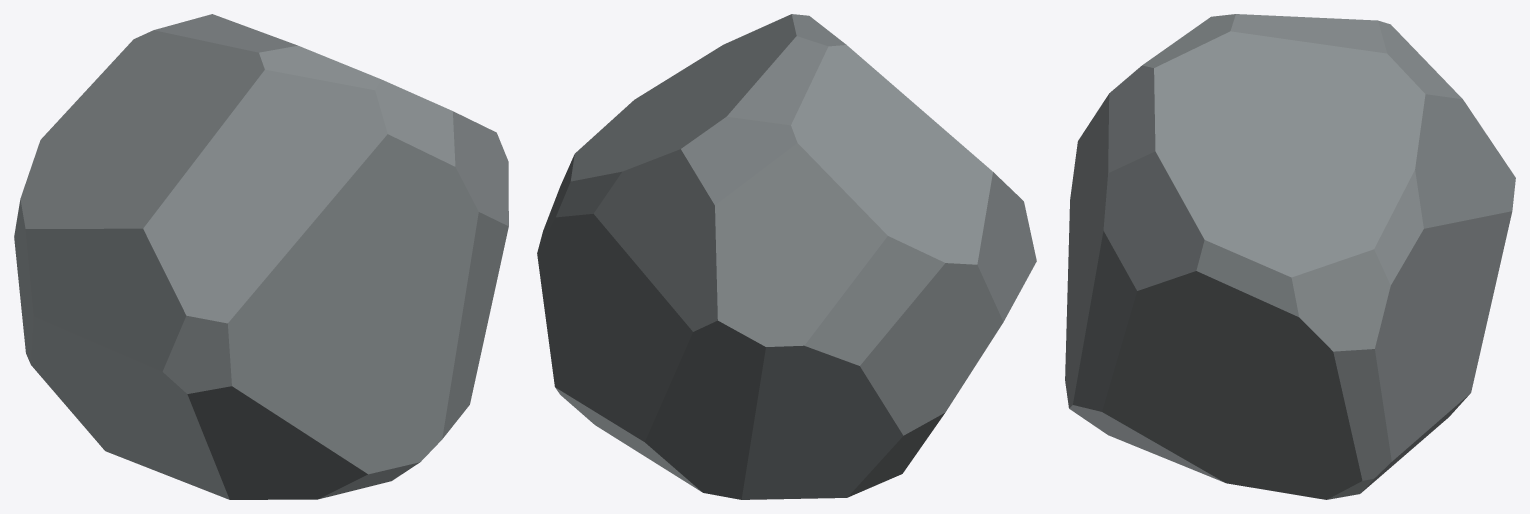
Rendered from NHP_Rock_Boulder_A1_03.fbx.
3 views of the same model, side by side, from view 1: azimuth 30°, elevation 25°; view 2: azimuth 150°, elevation 25°; view 3: azimuth 270°, elevation 25° (orthographic). The views are drawn at different scales.
Parts seen in each view (by area): view 1: NHP_Rock_Boulder_A1_03; view 2: NHP_Rock_Boulder_A1_03; view 3: NHP_Rock_Boulder_A1_03.
Part boxes in pixels (x1,y1,x2,y2): NHP_Rock_Boulder_A1_03: (14,14,508,499); NHP_Rock_Boulder_A1_03: (537,14,1036,499); NHP_Rock_Boulder_A1_03: (1065,14,1515,499).
Bounding box in the file's own units: 0.9036 × 0.754 × 0.7858.
